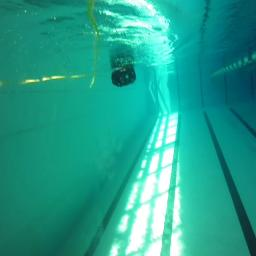Side: (112, 67, 138, 88), (112, 68, 136, 88)
